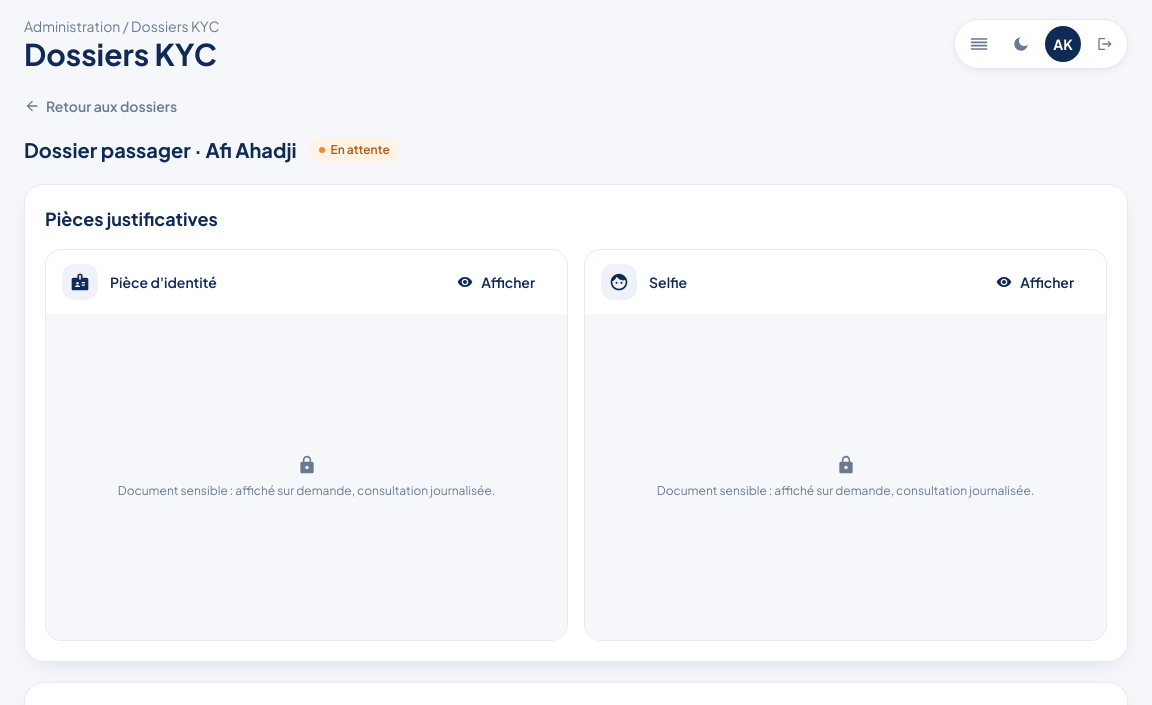
Scenario: détail d’un dossier KYC › affiche le message du backend si la pièce n'est pas accessible
Click the button with aria-label "Afficher : Pièce d'identité". click: click(496, 282)
box: [441,262,551,302]
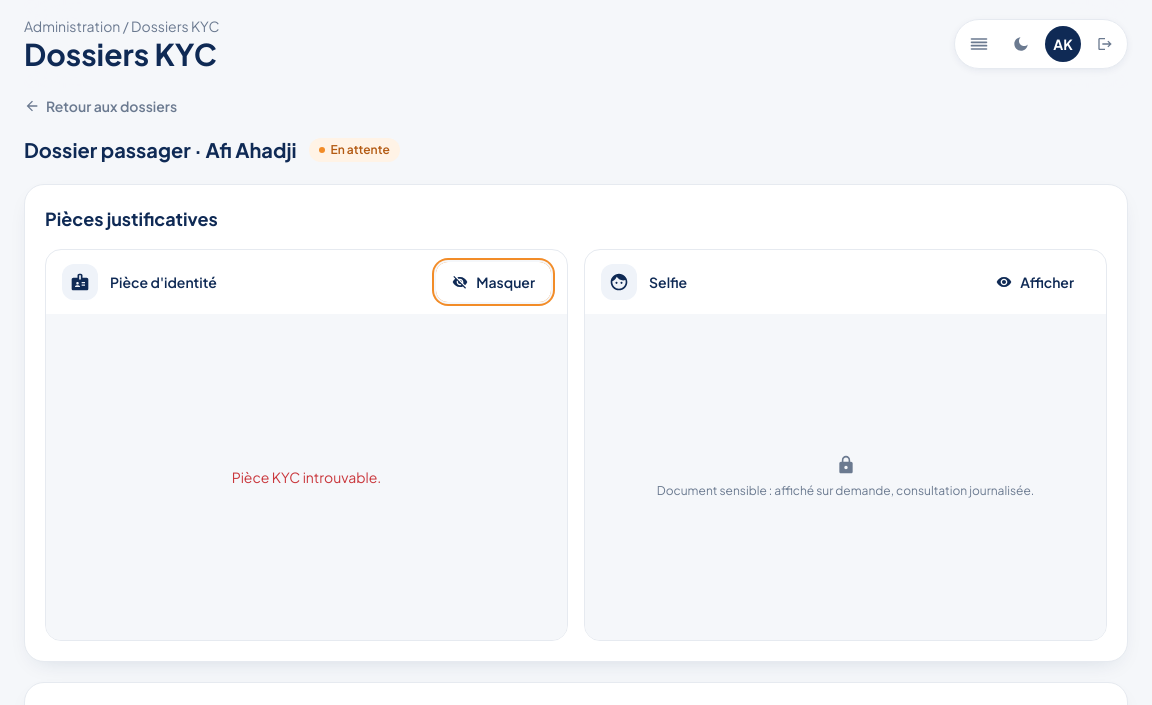
Check: the message reads "Pièce KYC introuvable.", box [232,468,381,486]
